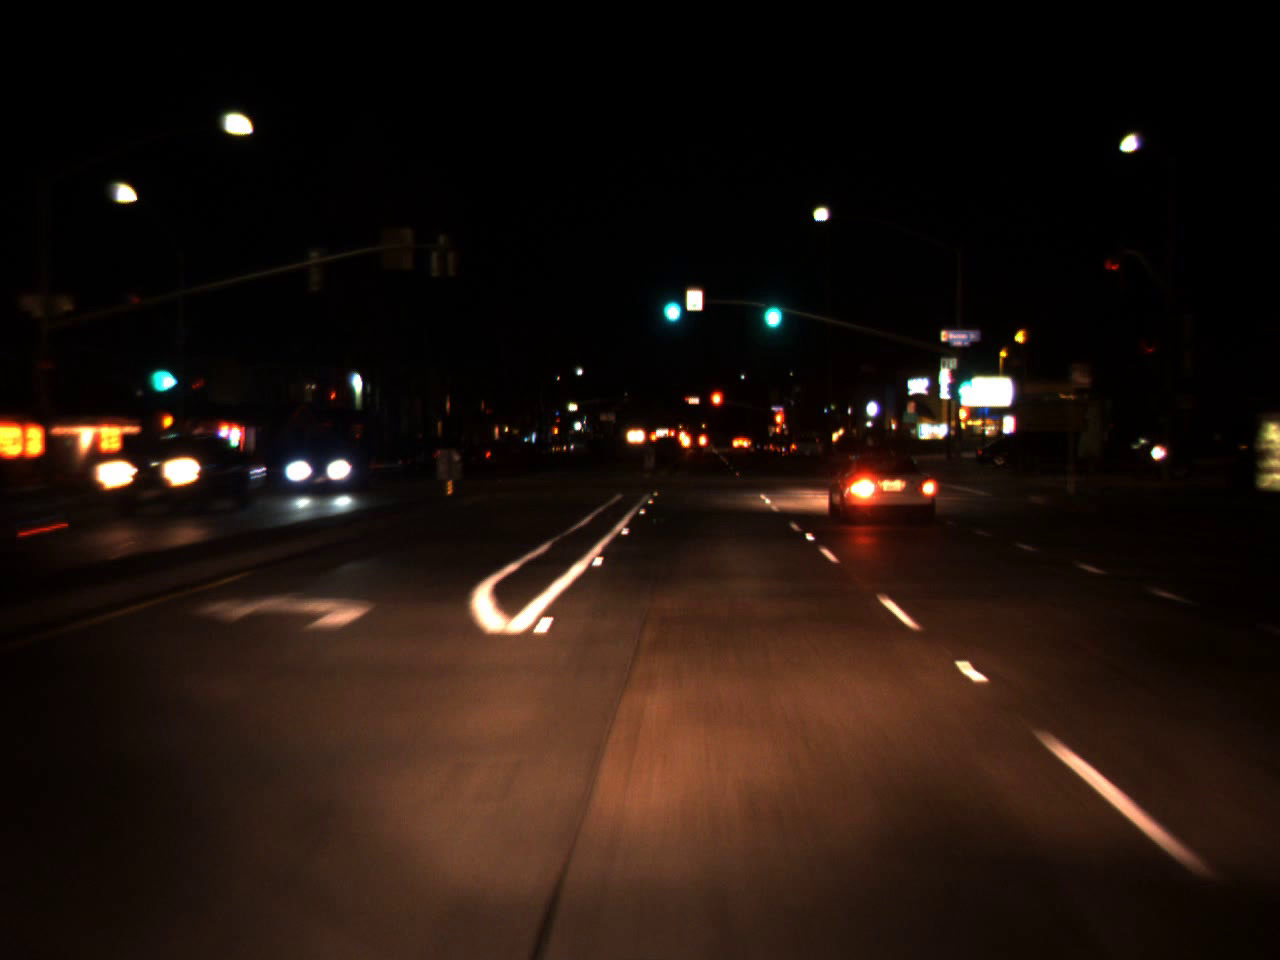go: (144, 345, 178, 399), (757, 279, 785, 336), (656, 277, 684, 328), (951, 354, 976, 402)
stop: (708, 388, 724, 423), (772, 410, 785, 434)
